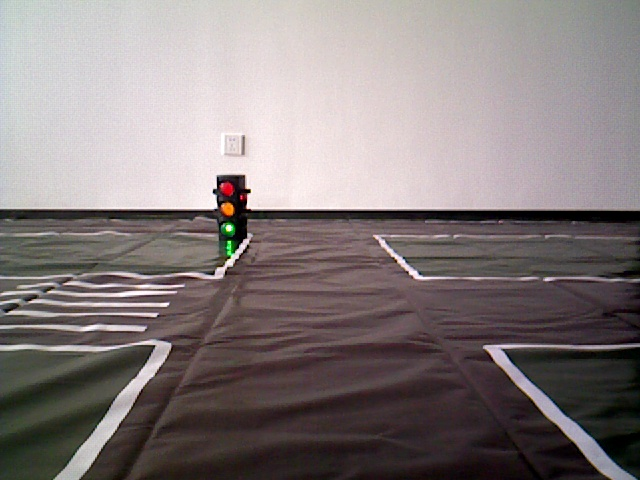green: (218, 177, 245, 235)
